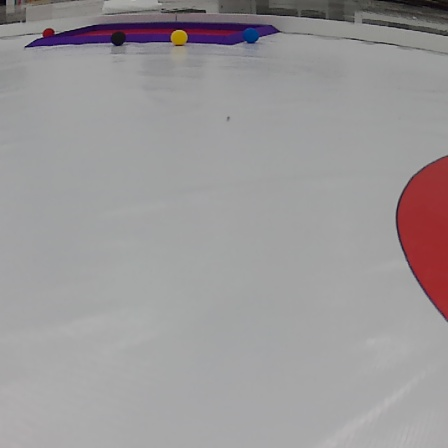black: (108, 30, 126, 46)
blue: (241, 25, 261, 43)
red: (42, 26, 54, 37)
red_aim: (25, 23, 282, 50)
red_base: (390, 156, 448, 329)
yellow: (171, 30, 189, 45)
